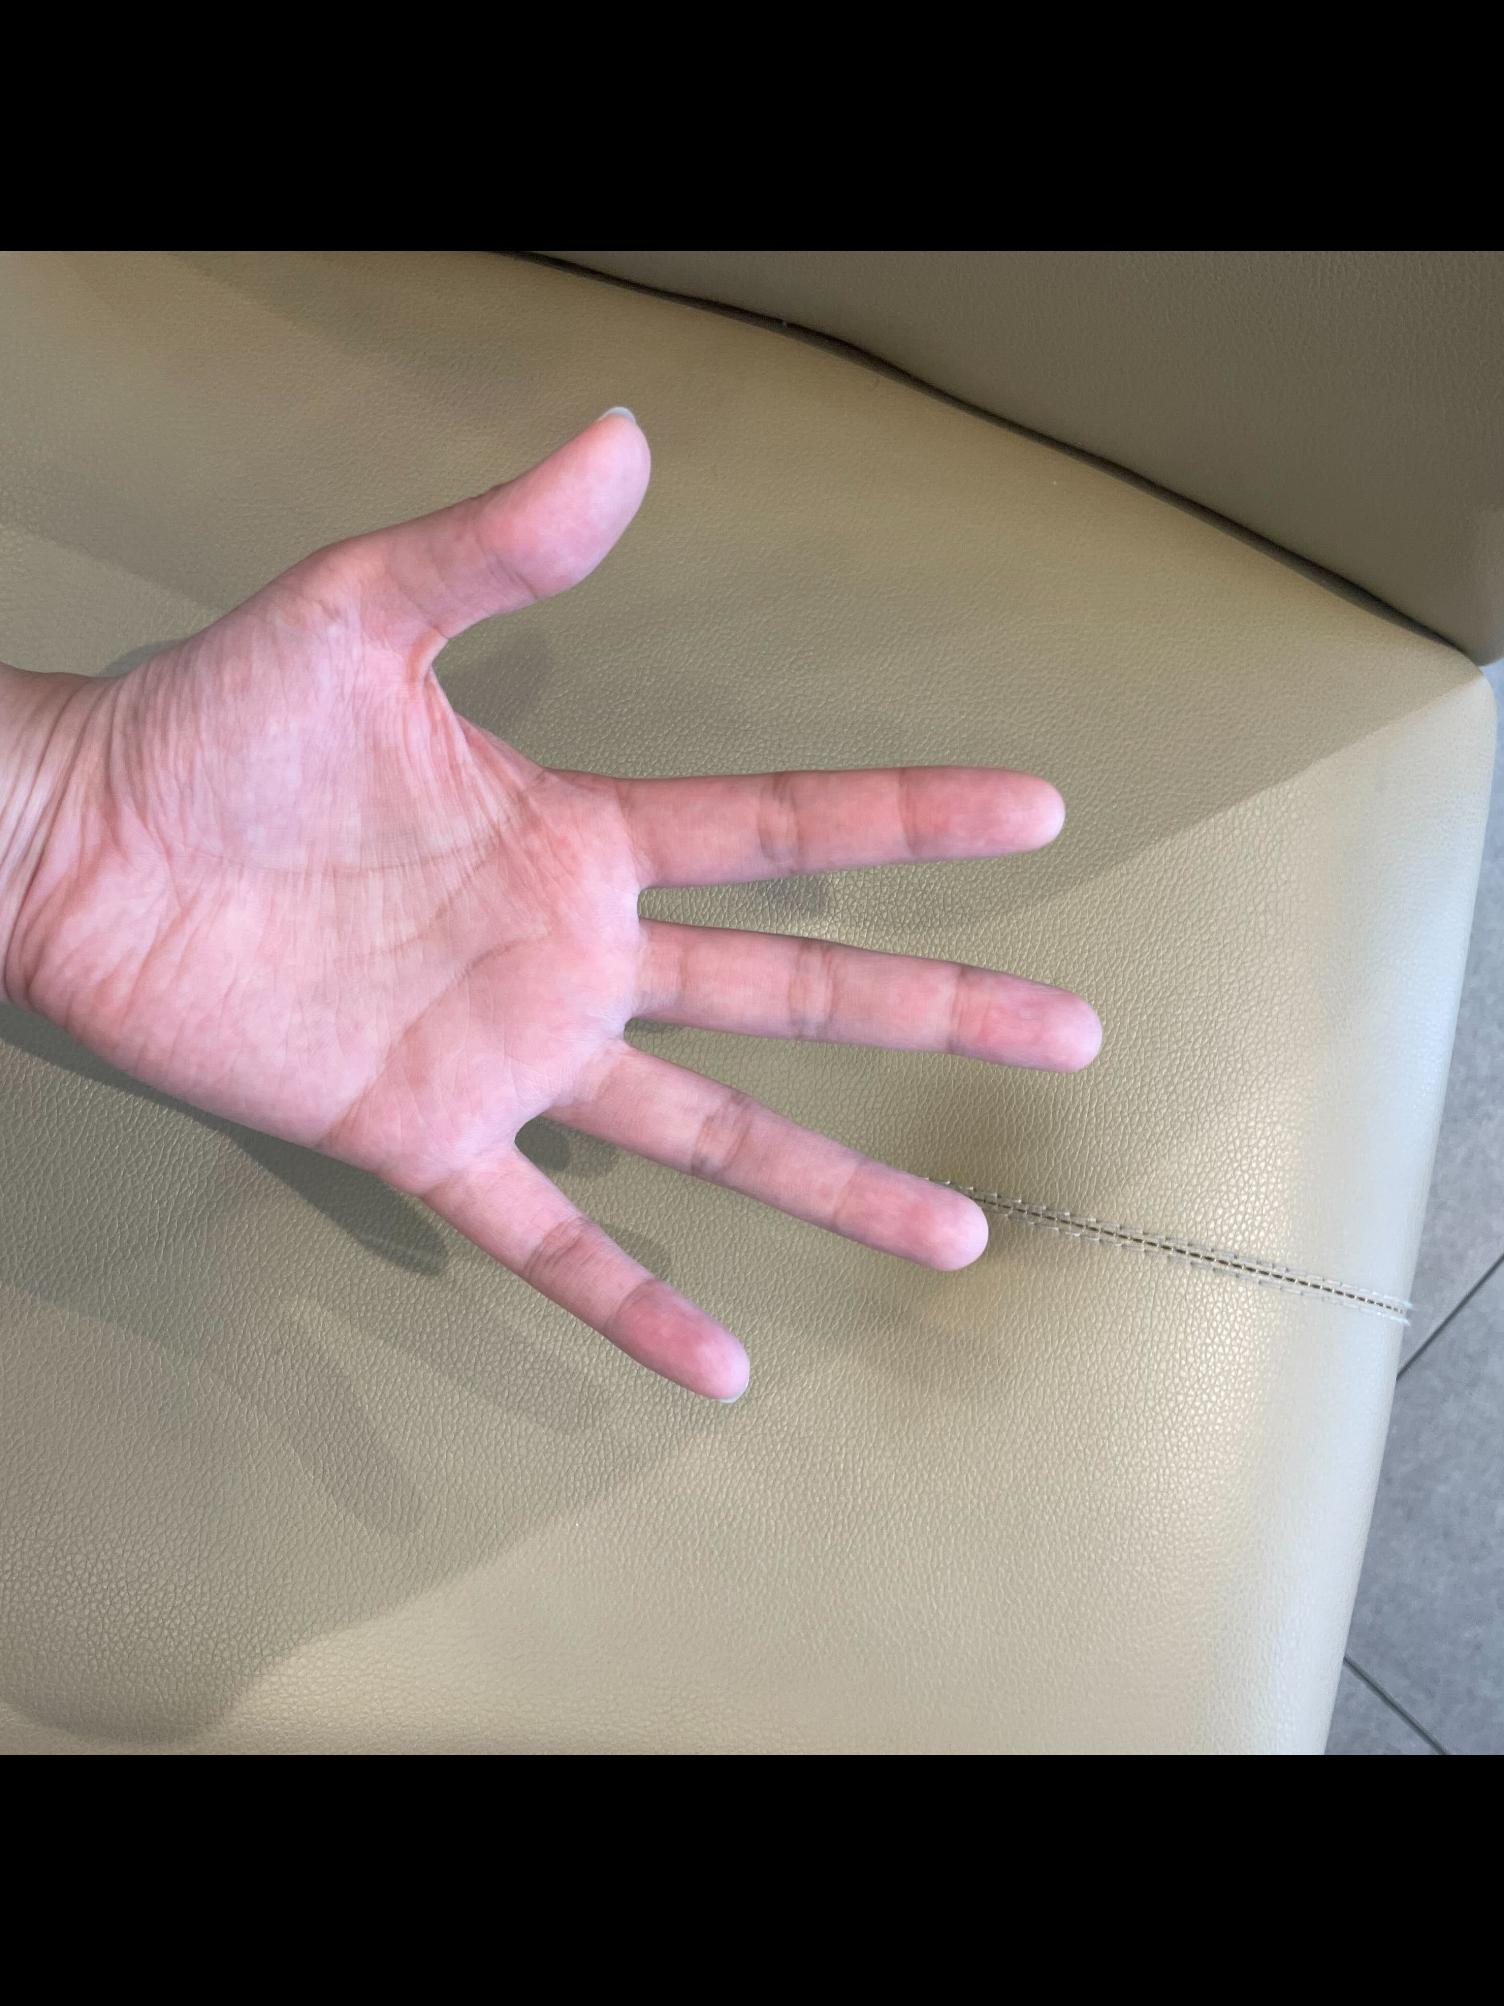open: (0, 387, 1115, 1415)
